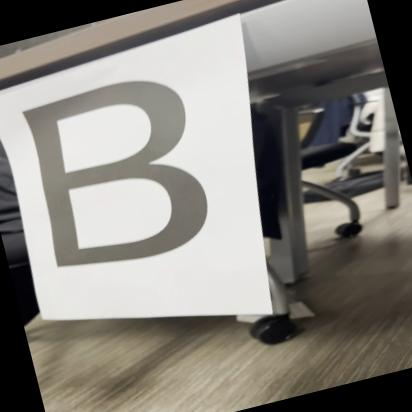seat: (13, 62, 232, 284)
